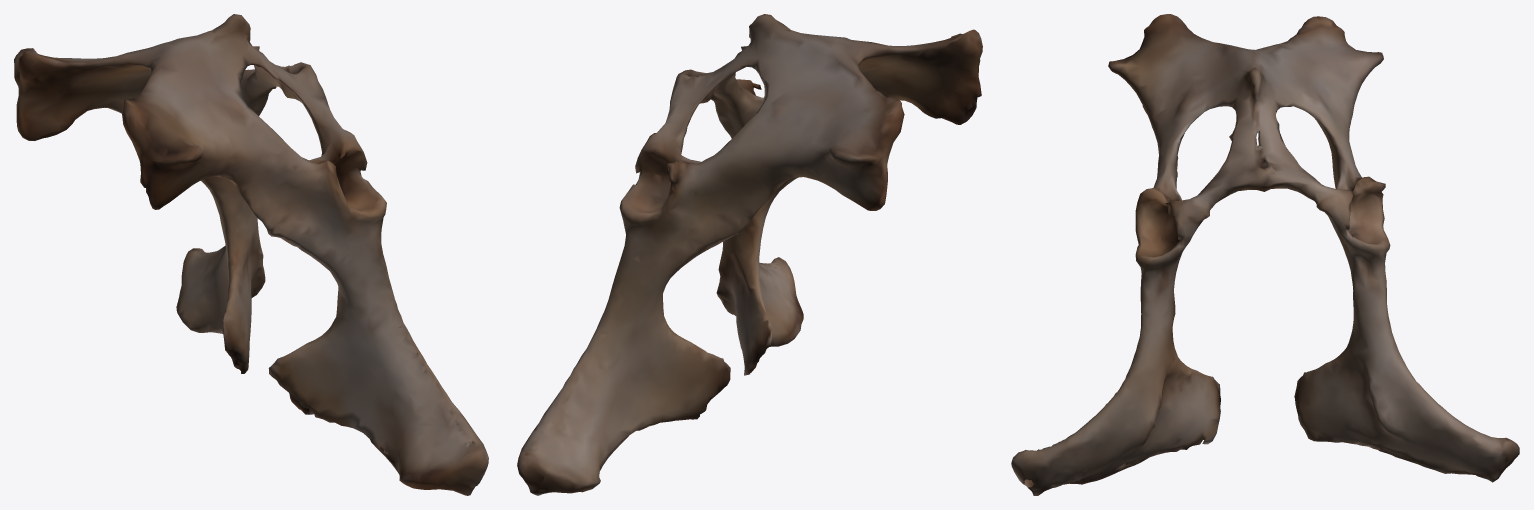
File: CowPelvis.fbx
The picture shows the model from 3 angles, left to right: view 1: azimuth 30°, elevation 25°; view 2: azimuth 150°, elevation 25°; view 3: azimuth 270°, elevation 25°; orthographic projection. The views are drawn at different scales.
Visible parts, largest first — view 1: CowPelvis.001_Baked; view 2: CowPelvis.001_Baked; view 3: CowPelvis.001_Baked.
Boxes of the visible parts, x1,y1,x2,y2 form: CowPelvis.001_Baked: (14,14,488,495); CowPelvis.001_Baked: (517,14,982,495); CowPelvis.001_Baked: (1011,14,1519,495).
Bounding box in the file's own units: 62.13 × 82.04 × 100.
